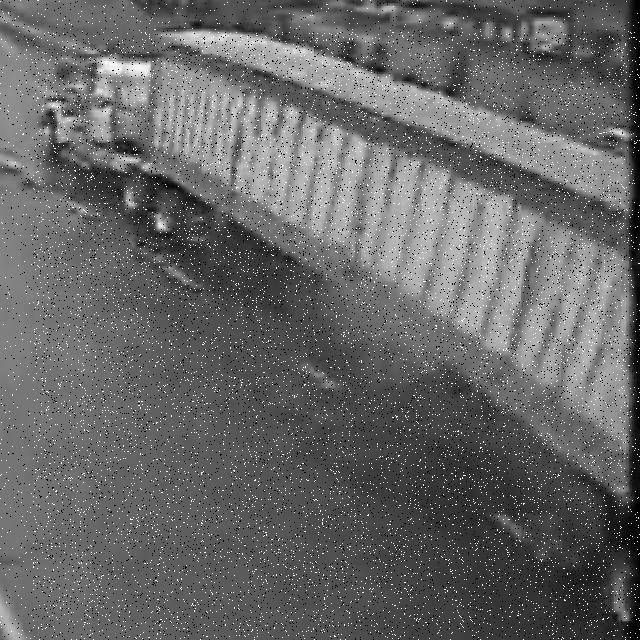Box Truck: (33, 32, 640, 640)
